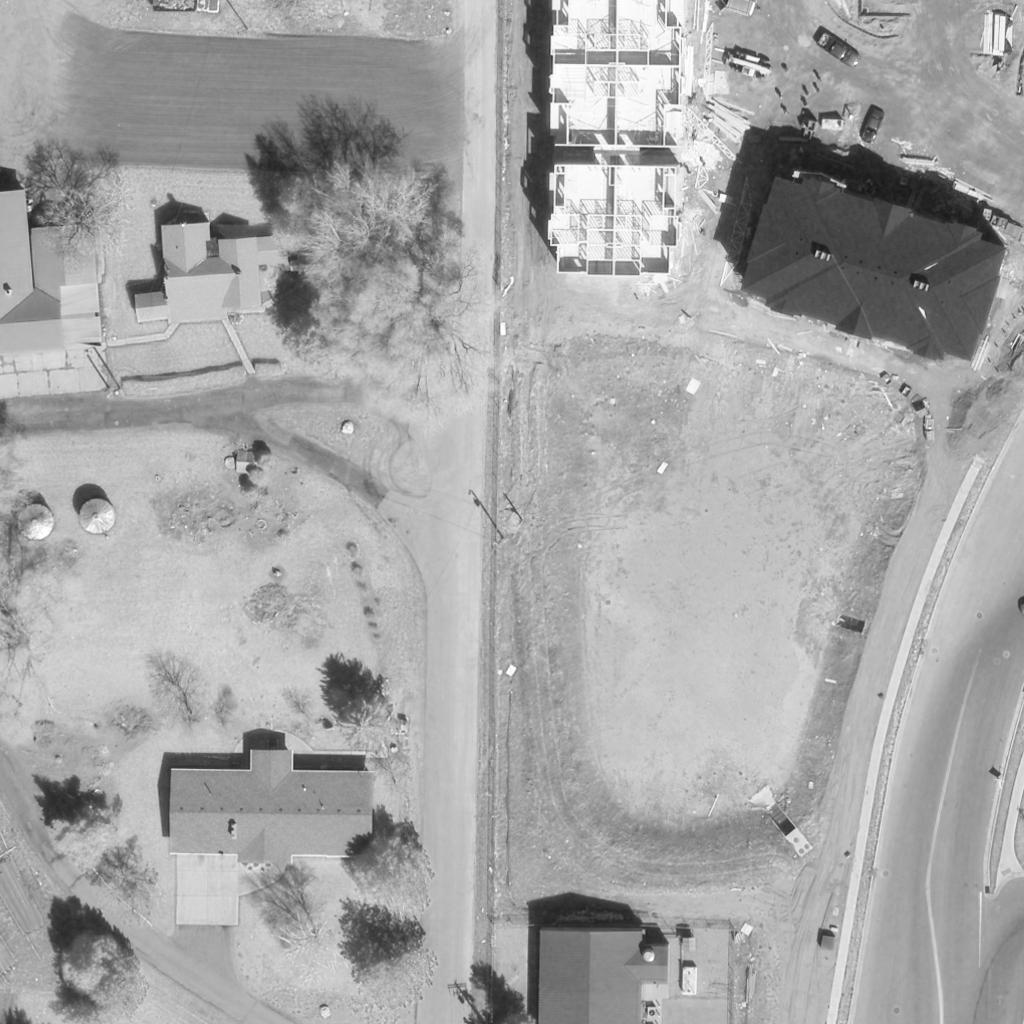vehicle: (721, 44, 775, 82), (819, 31, 861, 67), (860, 109, 886, 147)
